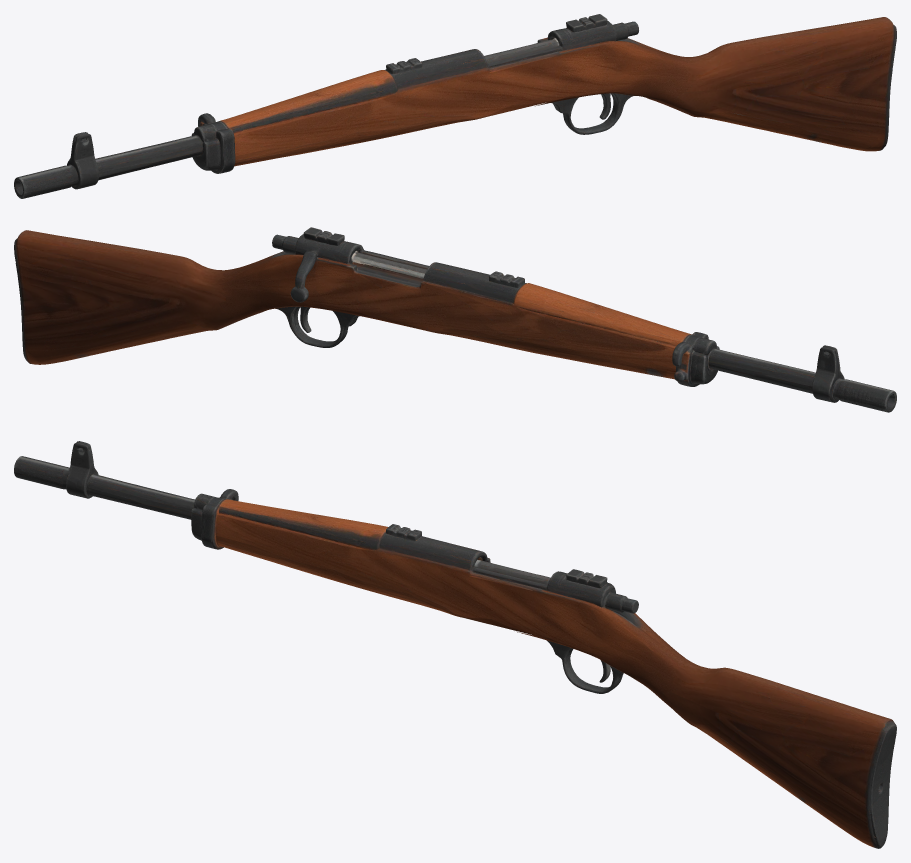
The model's file is kar98.glb.
3 views of the same model, one above another, from view 1: azimuth 30°, elevation 25°; view 2: azimuth 150°, elevation 25°; view 3: azimuth 330°, elevation 25° (orthographic).
Size of the model in its own units: 1.9 by 0.4393 by 0.1382.
1 material, 1 textured.
